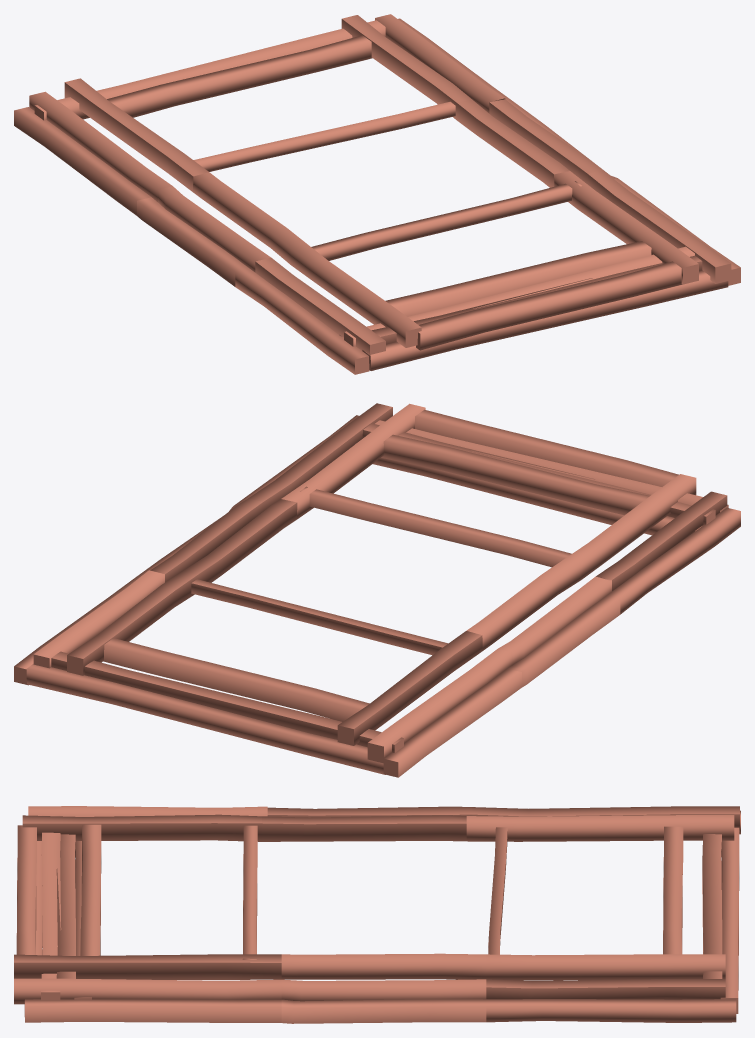
File: roof_small_frame.fbx
3 views of the same model, one above another, from view 1: azimuth 30°, elevation 25°; view 2: azimuth 150°, elevation 25°; view 3: azimuth 270°, elevation 25° (orthographic). The views are drawn at different scales.
Parts seen in each view (by area): view 1: Cube.178; view 2: Cube.178; view 3: Cube.178.
Boxes of the visible parts, x1=… form: Cube.178: x1=14, y1=14, x2=740, y2=374; Cube.178: x1=14, y1=403, x2=740, y2=777; Cube.178: x1=14, y1=806, x2=740, y2=1023.
Bounding box in the file's own units: 10.12 × 0.9002 × 15.82.
